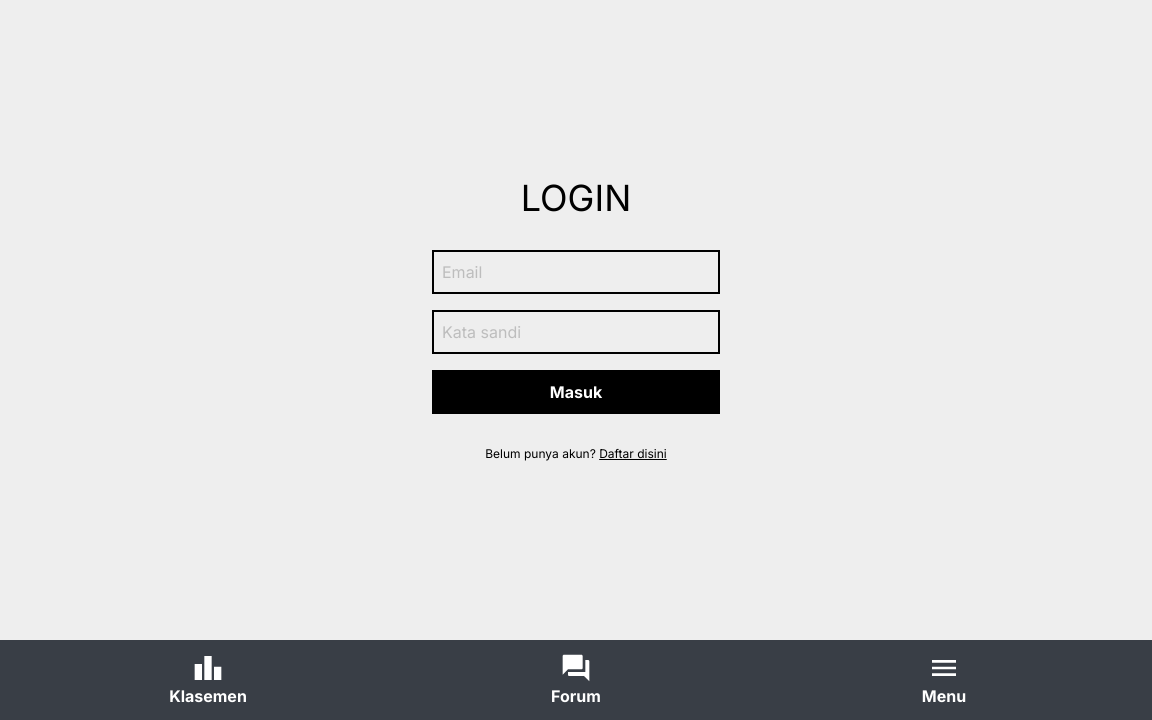
Test case: Login spec › should display alert when email and password is wrong
The image size is (1152, 720).
Type "test" into the field with test id "email" at [576, 272], box [432,250,720,294]
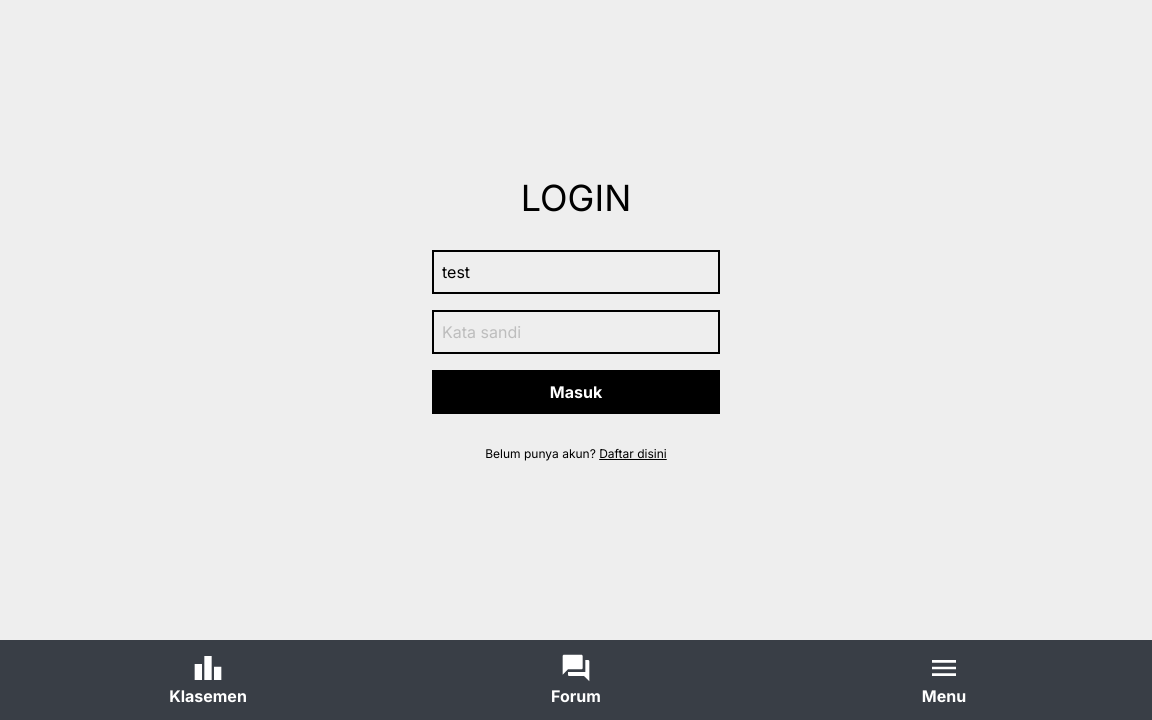
Type "test" into the password field with test id "password" at [576, 332], box [432,310,720,354]
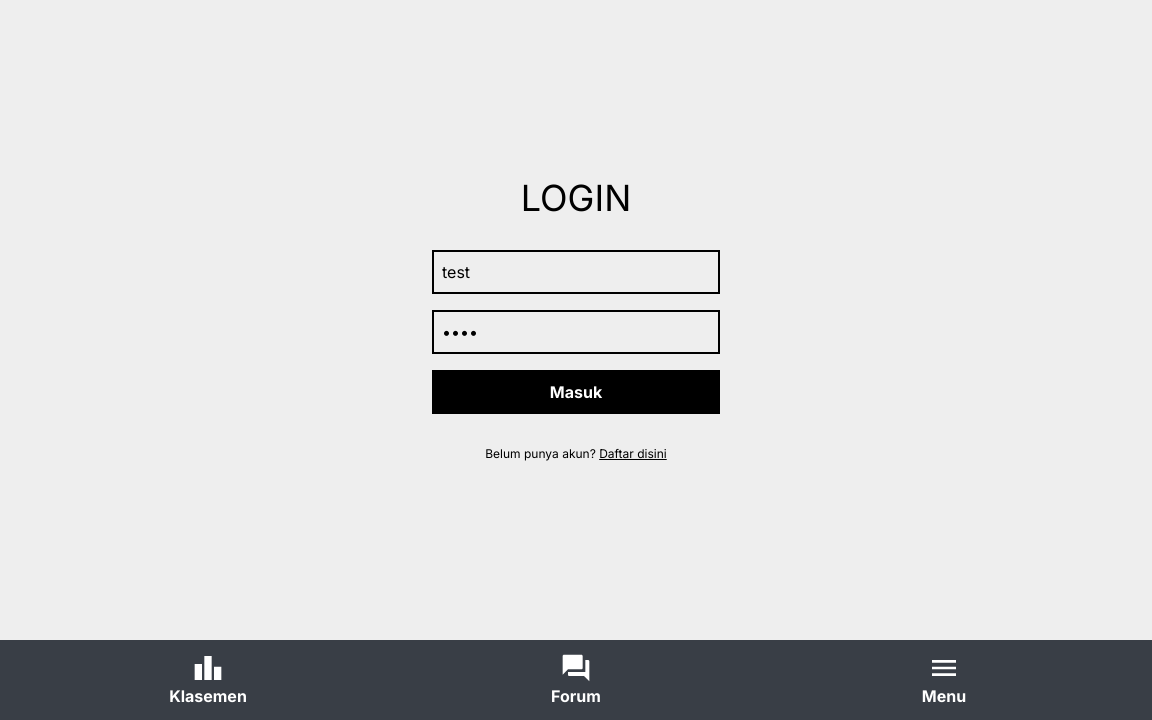
Click the button with test id "login-btn" at [576, 392], box [432,370,720,414]
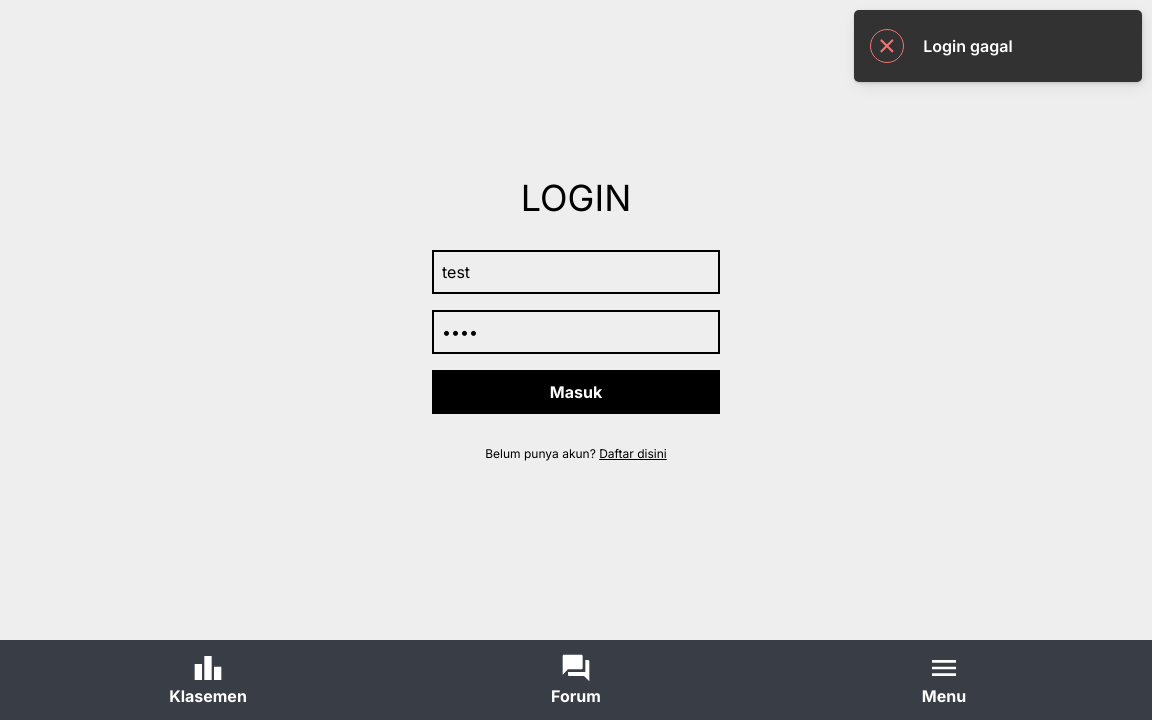
Result: the message "Login gagal" is shown at [854,10,1142,82]
